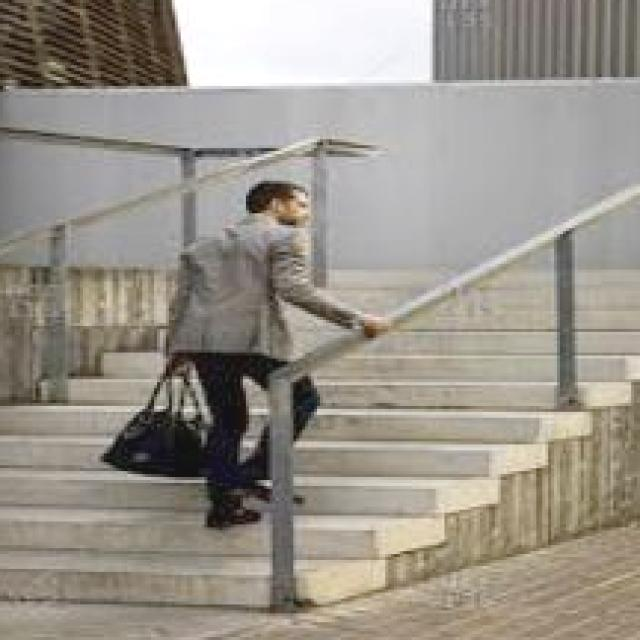upstair: (1, 386, 315, 603)
